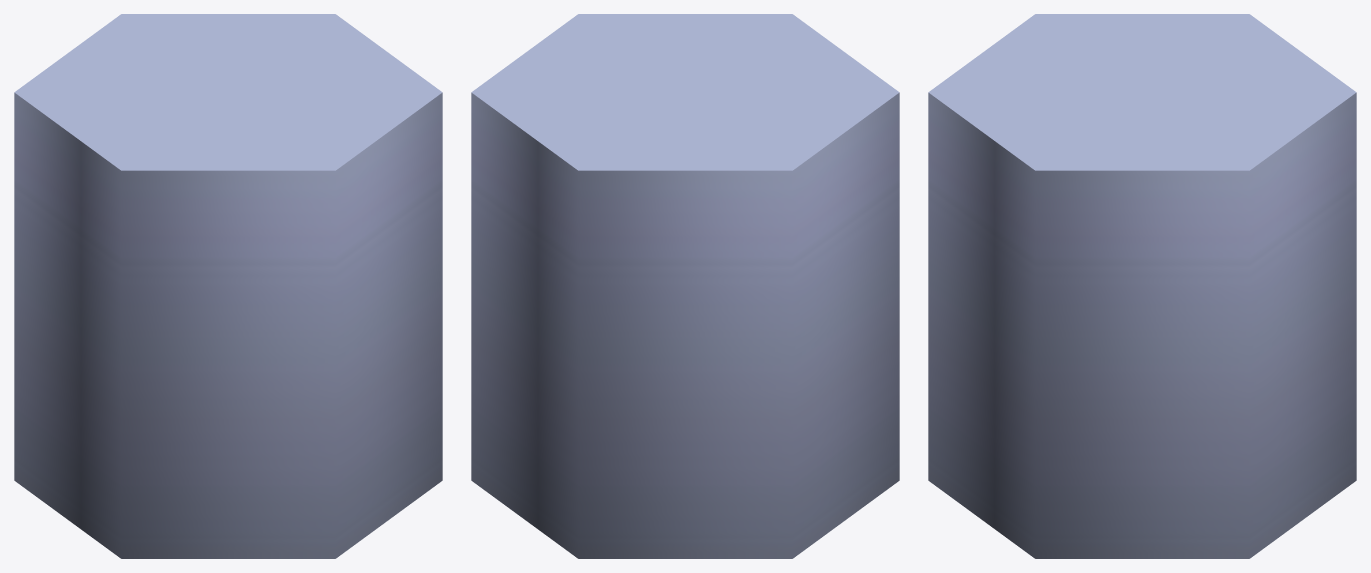
The model's file is kenney-prototype-shape-hexagon.glb.
3 renders of one model, left to right at view 1: azimuth 30°, elevation 25°; view 2: azimuth 150°, elevation 25°; view 3: azimuth 270°, elevation 25°, orthographic.
Parts seen in each view (by area): view 1: shape-hexagon; view 2: shape-hexagon; view 3: shape-hexagon.
Part boxes in pixels (bbox=[...]): shape-hexagon: bbox=[14, 14, 442, 558]; shape-hexagon: bbox=[471, 14, 899, 558]; shape-hexagon: bbox=[928, 14, 1356, 558].
Size of the model in its own units: 0.8661 by 1 by 1.
Materials: 1 (1 with a texture image).
